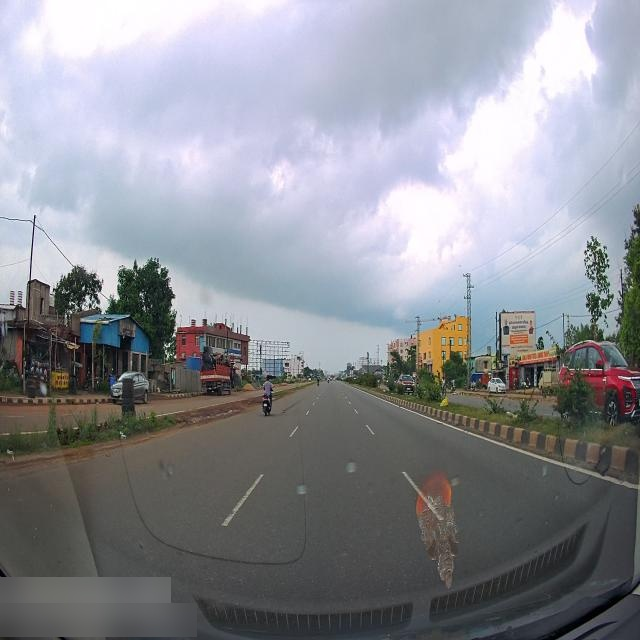pothole: (194, 405, 244, 422)
